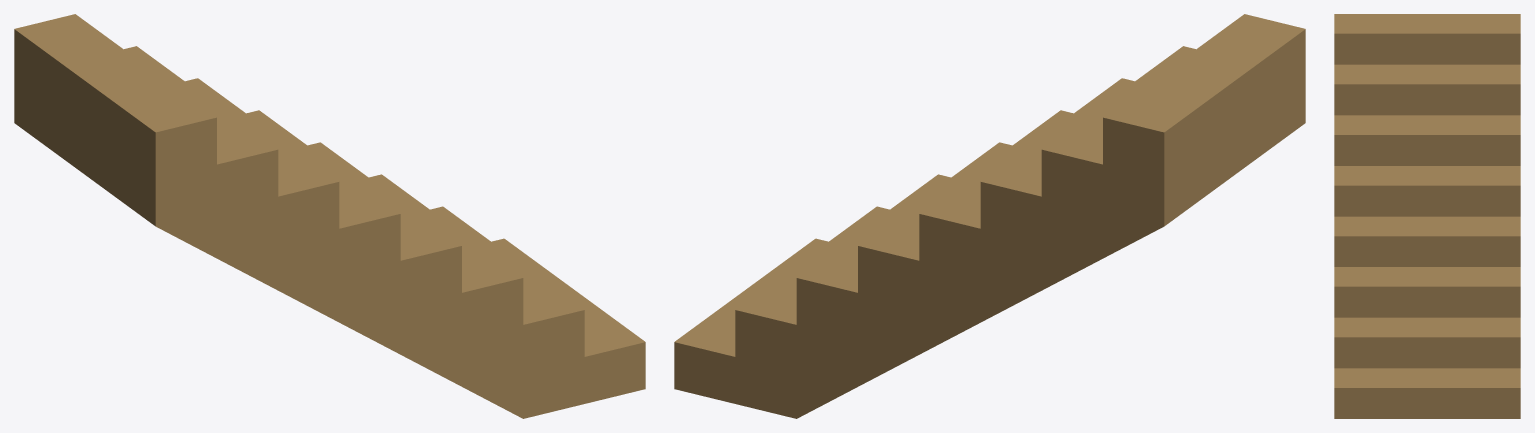
File: Stairs_Wood_01.obj
3 views of the same model, side by side, from view 1: azimuth 30°, elevation 25°; view 2: azimuth 150°, elevation 25°; view 3: azimuth 270°, elevation 25° (orthographic). The views are drawn at different scales.
Visible parts, largest first — view 1: Mesh1_Stairs_Wood_Model; view 2: Mesh1_Stairs_Wood_Model; view 3: Mesh1_Stairs_Wood_Model.
Boxes of the visible parts, x1,y1,x2,y2 form: Mesh1_Stairs_Wood_Model: (14,14,645,418); Mesh1_Stairs_Wood_Model: (674,14,1305,418); Mesh1_Stairs_Wood_Model: (1334,14,1520,418).
Size of the model in its own units: 3 by 2.2 by 1.5.
